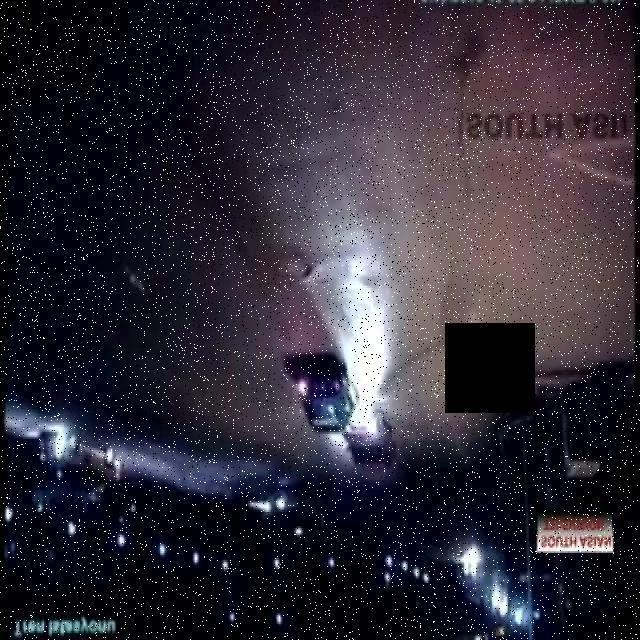vehicle: (277, 308, 397, 481)
